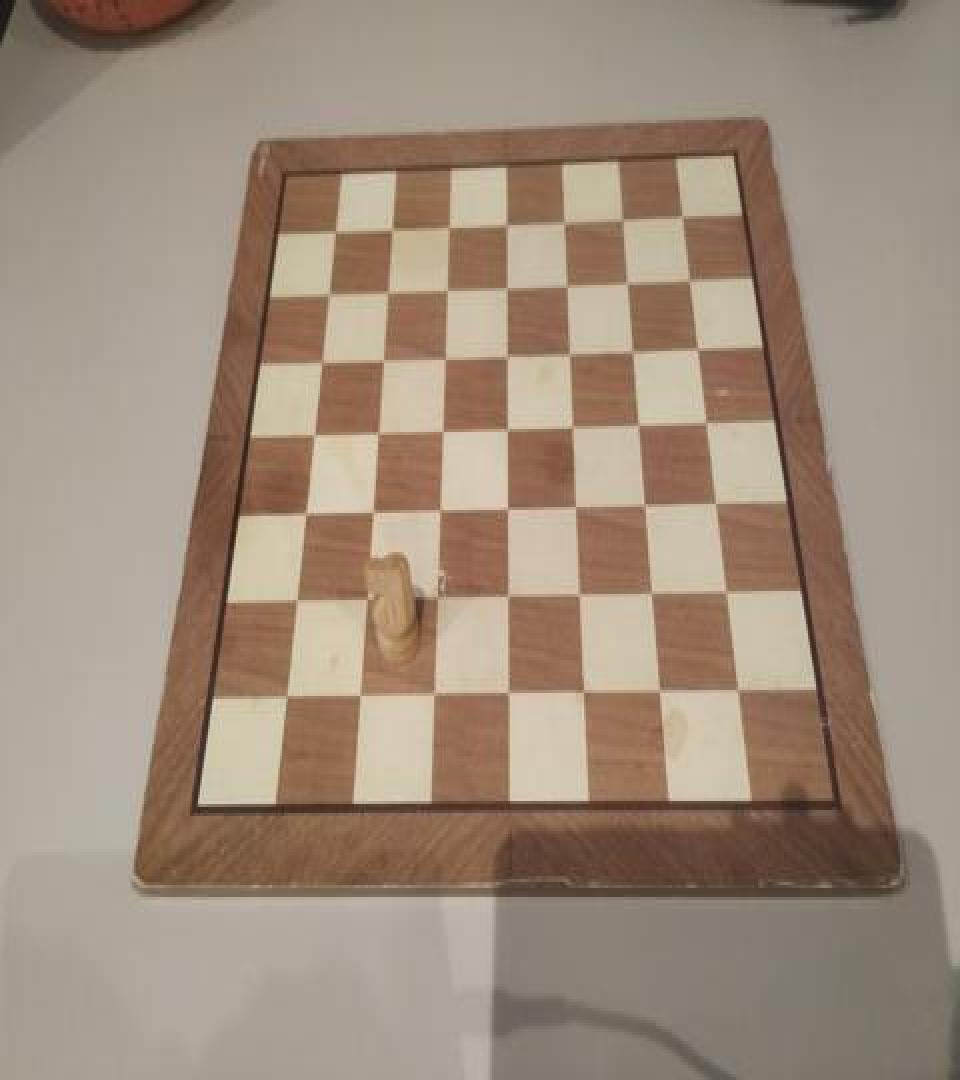xcorner: (362, 499, 382, 530), (276, 687, 296, 717), (350, 684, 370, 714), (500, 680, 520, 710), (576, 676, 596, 706), (652, 675, 672, 705), (729, 672, 749, 702), (286, 590, 306, 620), (356, 588, 376, 618), (427, 585, 447, 615), (499, 582, 519, 612), (571, 579, 591, 609), (644, 576, 664, 606), (717, 574, 737, 604), (294, 502, 314, 532), (430, 496, 450, 526), (498, 494, 518, 524), (567, 490, 587, 520), (636, 488, 656, 518), (706, 484, 726, 514), (302, 422, 322, 452), (367, 418, 387, 448), (432, 416, 452, 446), (497, 412, 517, 442), (563, 410, 583, 440), (629, 406, 649, 436), (696, 404, 716, 434), (309, 348, 329, 378), (371, 345, 391, 375), (434, 342, 454, 372), (496, 339, 516, 369), (559, 336, 579, 366), (623, 333, 643, 363), (686, 328, 706, 358), (316, 279, 336, 309), (376, 276, 396, 306), (435, 273, 455, 303), (495, 270, 515, 300), (556, 267, 576, 297), (617, 264, 637, 294), (678, 261, 698, 291), (322, 218, 342, 248), (379, 213, 399, 243), (437, 210, 457, 240), (495, 207, 515, 237), (553, 204, 573, 234), (611, 201, 631, 231), (670, 198, 690, 228), (425, 683, 445, 712)
